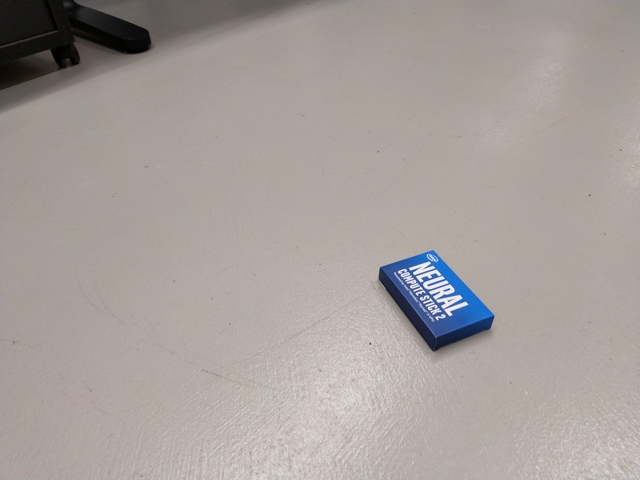box: (378, 249, 495, 352)
